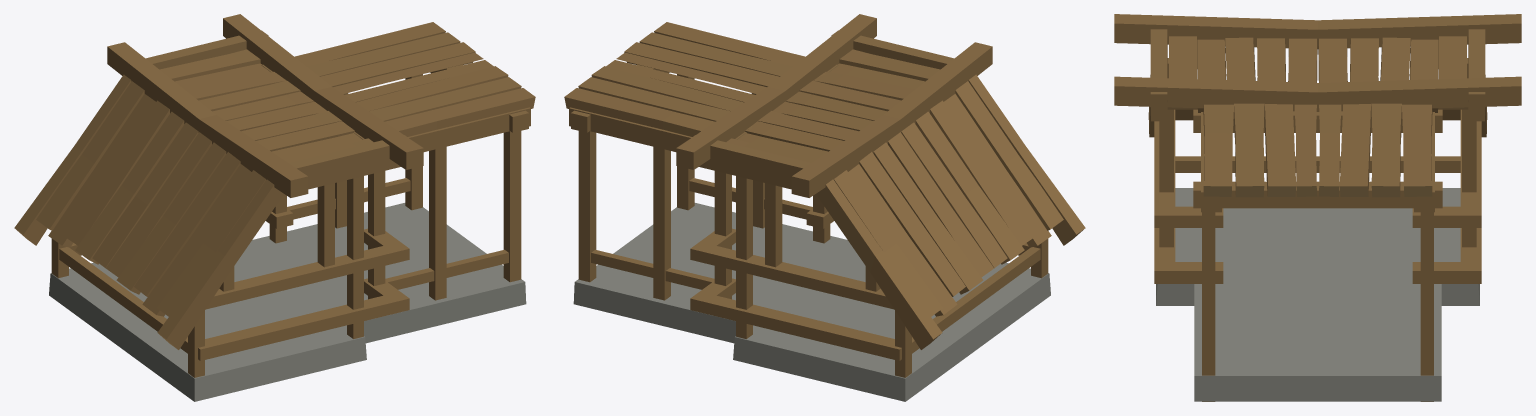
The model's file is quaternius-real-time-strategy-houses-first-age-2-level-2.glb.
The picture shows the model from 3 angles, left to right: view 1: azimuth 30°, elevation 25°; view 2: azimuth 150°, elevation 25°; view 3: azimuth 270°, elevation 25°; orthographic projection. The views are drawn at different scales.
Parts seen in each view (by area): view 1: Houses_FirstAge_2_Level2; view 2: Houses_FirstAge_2_Level2; view 3: Houses_FirstAge_2_Level2.
Boxes of the visible parts, x1=… form: Houses_FirstAge_2_Level2: x1=14, y1=14, x2=535, y2=401; Houses_FirstAge_2_Level2: x1=564, y1=14, x2=1085, y2=401; Houses_FirstAge_2_Level2: x1=1114, y1=14, x2=1521, y2=401.
Bounding box in the file's own units: 1.46 × 0.7685 × 1.17.
